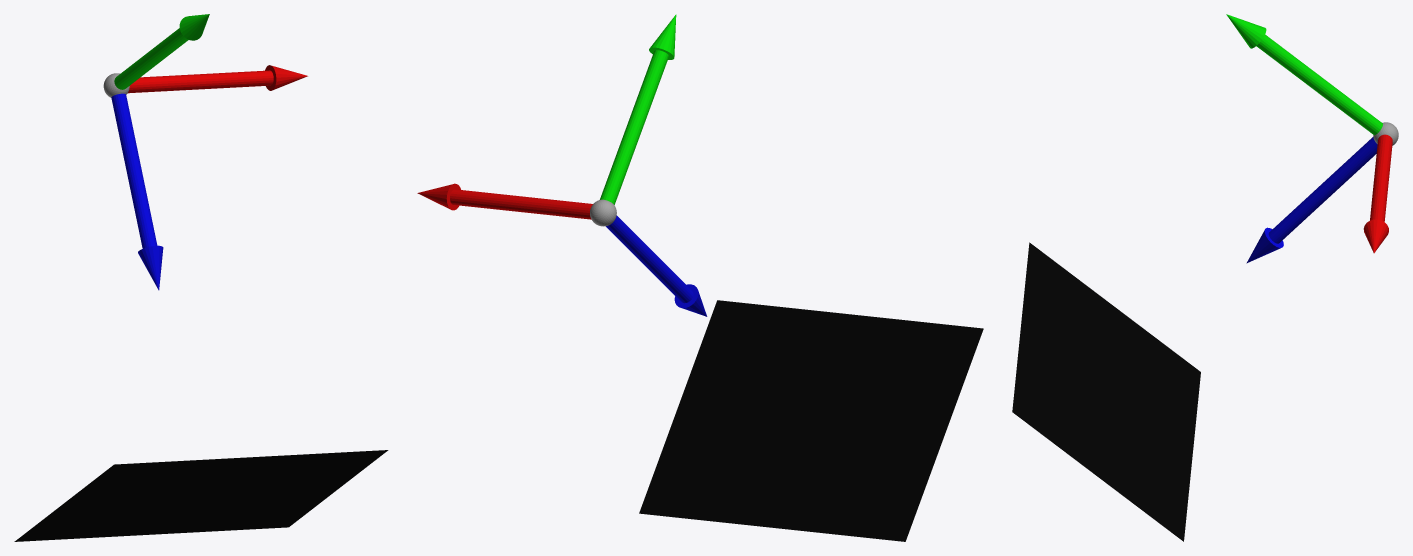
3 views of the same model, side by side, from view 1: azimuth 30°, elevation 25°; view 2: azimuth 150°, elevation 25°; view 3: azimuth 270°, elevation 25° (orthographic). The views are drawn at different scales.
Bounding box in the file's own units: 0.2541 × 0.3245 × 0.2271.
